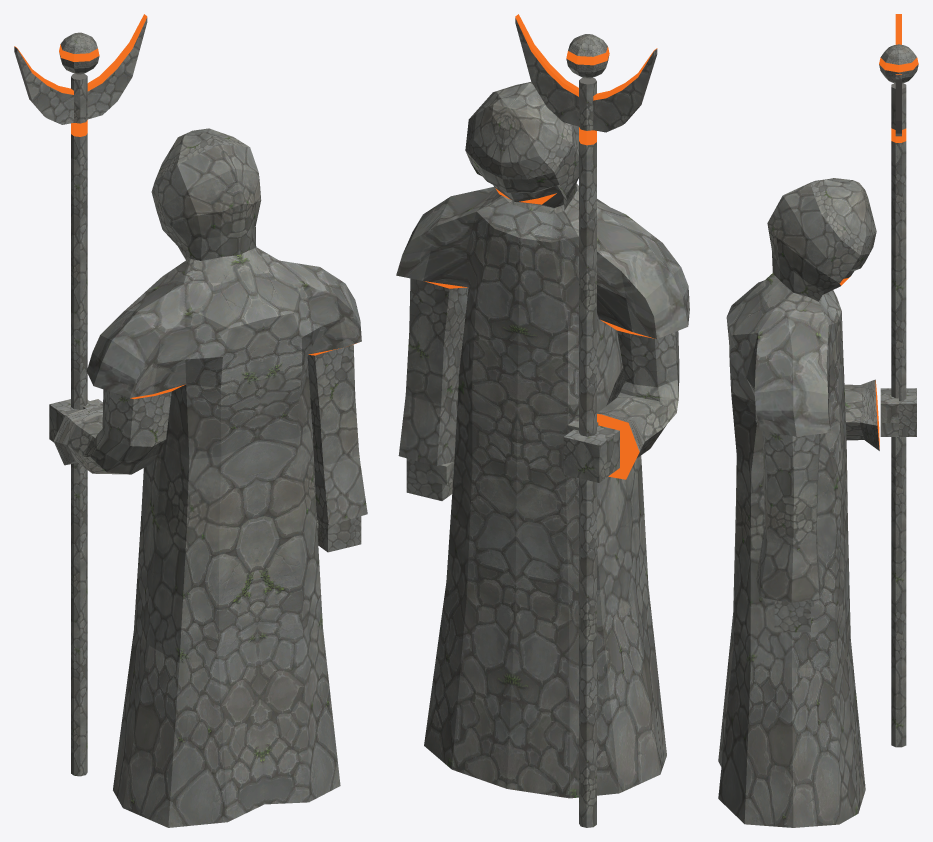
The model's file is R_angle.glb.
3 renders of one model, left to right at view 1: azimuth 30°, elevation 25°; view 2: azimuth 150°, elevation 25°; view 3: azimuth 270°, elevation 25°, orthographic. The views are drawn at different scales.
Parts seen in each view (by area): view 1: R_angle; view 2: R_angle; view 3: R_angle.
Part boxes in pixels (x1=…): R_angle: x1=14, y1=14, x2=367, y2=827; R_angle: x1=396, y1=14, x2=689, y2=827; R_angle: x1=718, y1=14, x2=918, y2=827.
Size of what is drawn, in the model's own units: 2.24 by 5.47 by 1.41.
2 materials, 1 textured.
